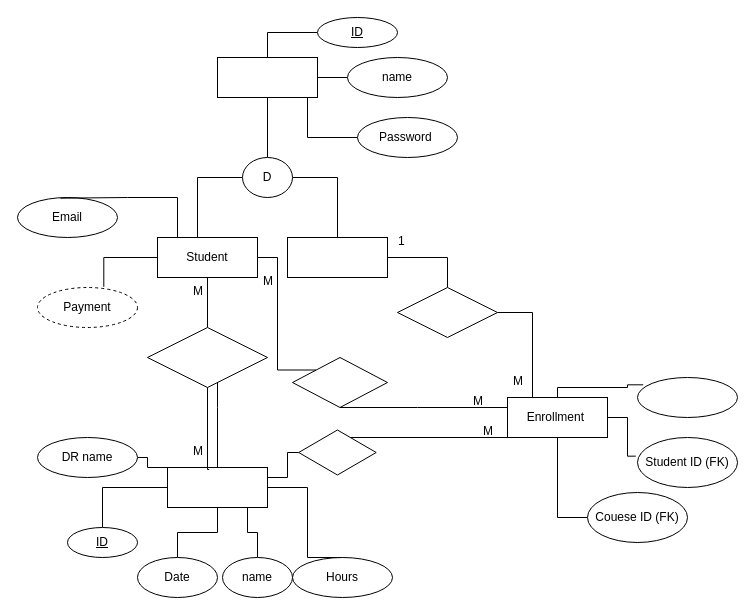
The diagram is 755 pixels wide and 615 high, and some of its shapes have lost their labels. The shapes that lost their labels are listed below. From the top down, each one's centre as x and y in pixels, then its label:
pixel 267 77: user
pixel 337 257: Admin
pixel 447 312: Manage
pixel 207 357: Enroll
pixel 340 382: Register
pixel 687 397: status
pixel 337 452: Has a
pixel 217 487: Courses
